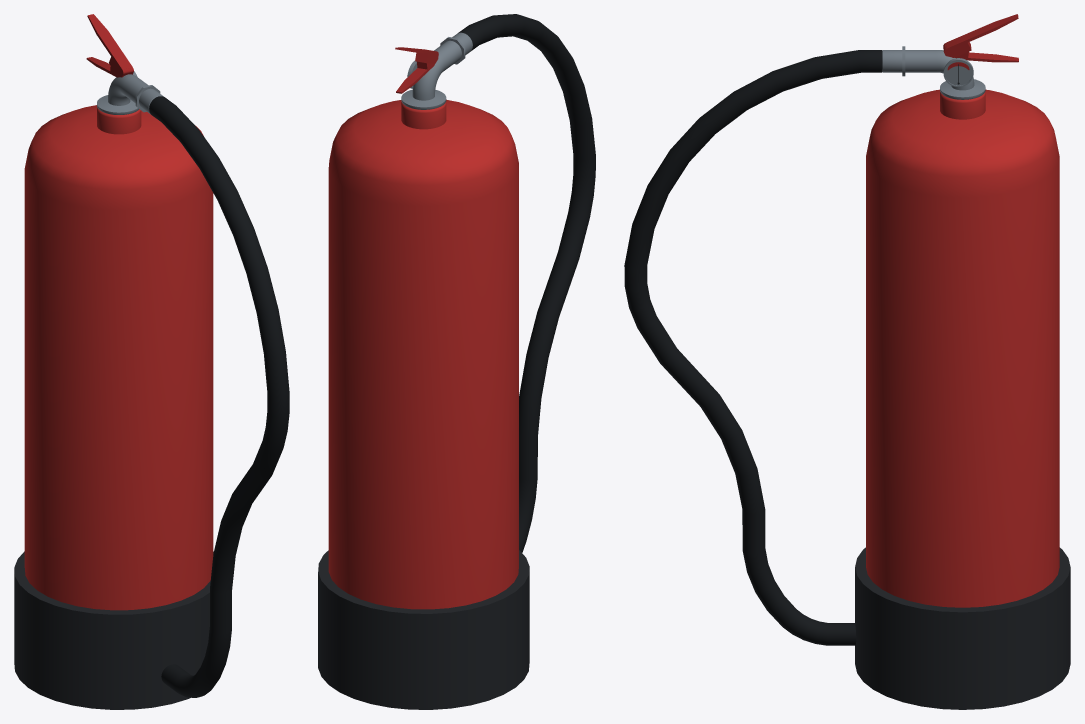
Rendered from fire_extinguisher.fbx.
3 renders of one model, left to right at view 1: azimuth 30°, elevation 25°; view 2: azimuth 150°, elevation 25°; view 3: azimuth 270°, elevation 25°, orthographic. The views are drawn at different scales.
Visible parts, largest first — view 1: Cylinder.001, Cylinder, Cylinder.002, Cylinder.003, Cube; view 2: Cylinder.001, Cylinder, Cylinder.002, Cylinder.003, Cube.001; view 3: Cylinder.001, Cylinder, Cylinder.002, Cylinder.003, Cube.
Part boxes in pixels (x1,y1,x2,y2): Cylinder.001: (24, 105, 213, 610); Cylinder: (14, 551, 213, 709); Cylinder.002: (149, 96, 289, 697); Cylinder.003: (97, 74, 163, 114); Cube: (87, 14, 133, 77); Cylinder.001: (328, 99, 518, 609); Cylinder: (318, 550, 529, 709); Cylinder.002: (458, 14, 595, 552); Cylinder.003: (401, 32, 472, 109); Cube.001: (396, 58, 438, 93); Cylinder.001: (866, 89, 1059, 607); Cylinder: (855, 547, 1070, 709); Cylinder.002: (624, 50, 882, 645); Cylinder.003: (882, 46, 985, 99); Cube: (943, 14, 1018, 57).
Size of the model in its own units: 100 by 332 by 207.
